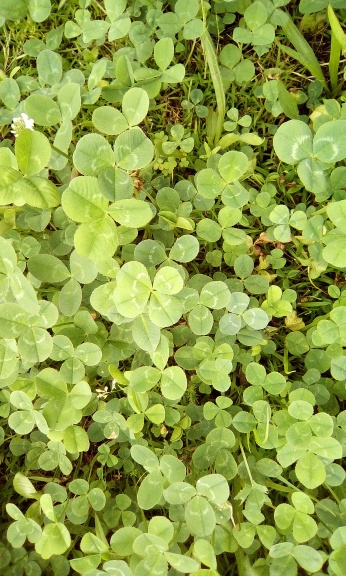4leaf: (112, 260, 184, 329)
